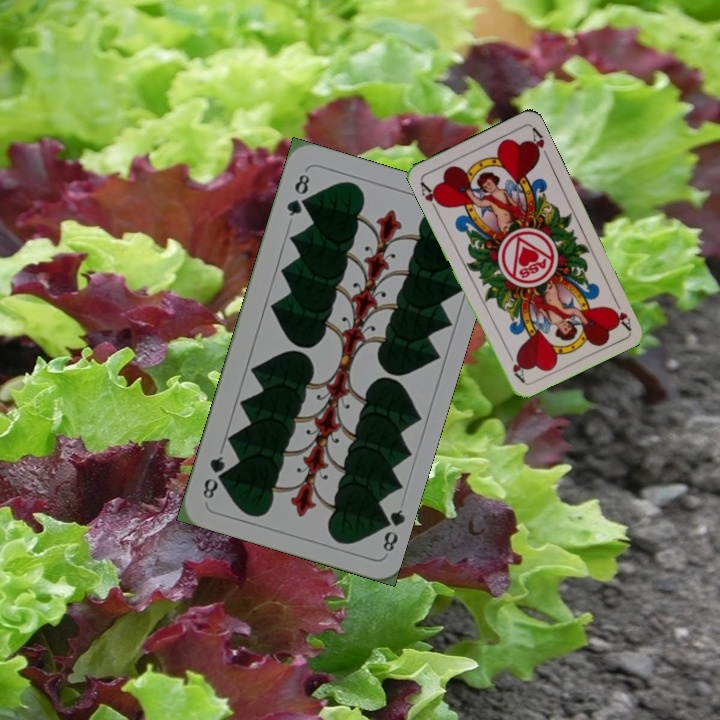G8: (375, 505, 407, 554), (283, 170, 312, 219)
HA: (416, 177, 446, 215), (607, 293, 634, 332)
